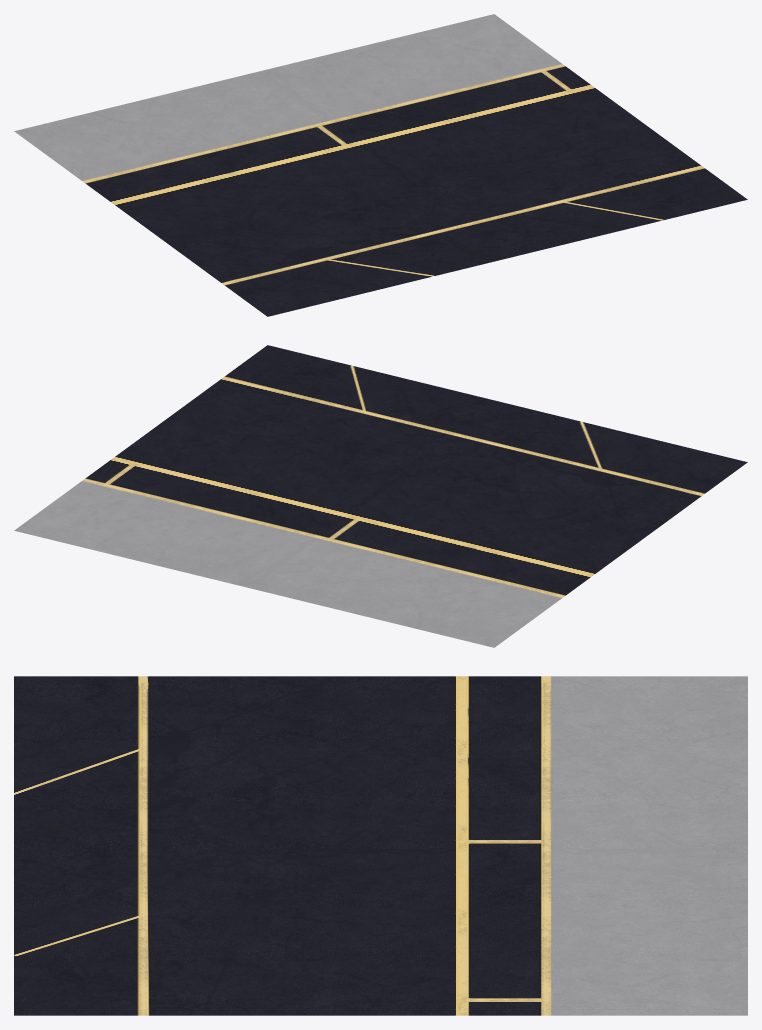
The model's file is FloorSplineTest.fbx.
3 renders of one model, top to bottom at view 1: azimuth 30°, elevation 25°; view 2: azimuth 150°, elevation 25°; view 3: azimuth 270°, elevation 25°, orthographic. The views are drawn at different scales.
Visible parts, largest first — view 1: Plane; view 2: Plane; view 3: Plane.
Part boxes in pixels (bbox=[...]): Plane: bbox=[14, 14, 747, 316]; Plane: bbox=[14, 345, 747, 647]; Plane: bbox=[14, 676, 747, 1015].
Size of the model in its own units: 150 by 2.24e-05 by 137.
